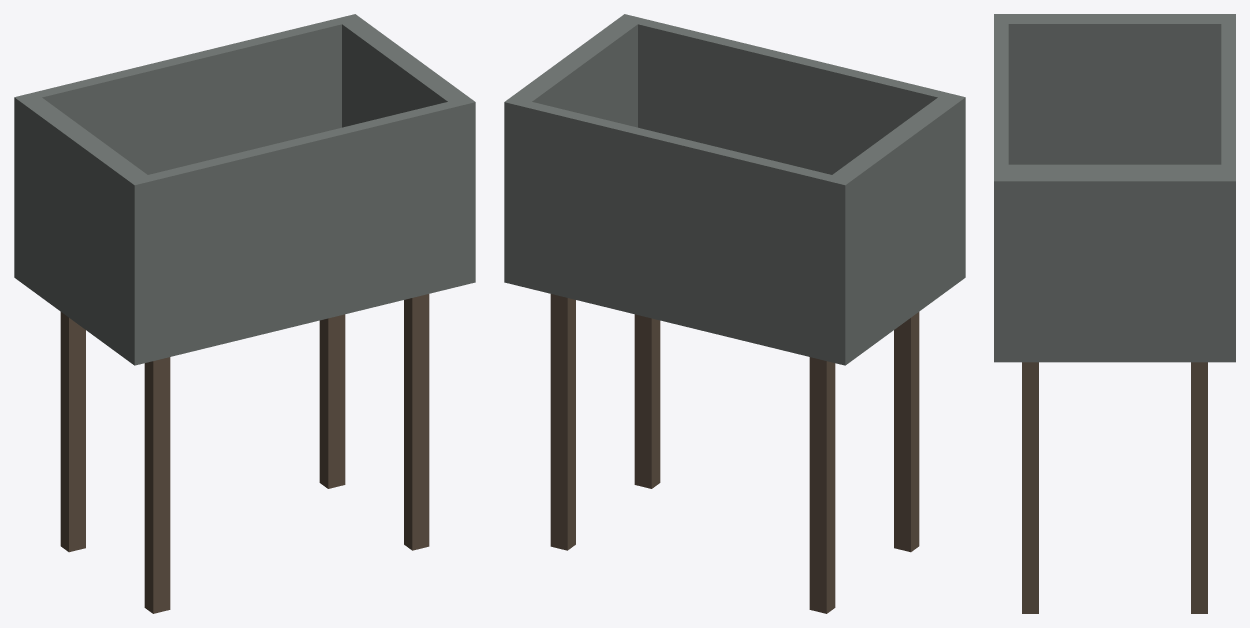
The model's file is P012-blockout-v1.glb.
3 views of the same model, side by side, from view 1: azimuth 30°, elevation 25°; view 2: azimuth 150°, elevation 25°; view 3: azimuth 270°, elevation 25° (orthographic).
Parts seen in each view (by area): view 1: 長邊 (×2), 短邊 (×2), 支腳 (×4), 盆底; view 2: 長邊 (×2), 短邊 (×2), 支腳 (×4), 盆底; view 3: 短邊 (×2), 盆底, 長邊 (×2), 支腳 (×2).
Boxes of the visible parts, bbox=[...] form: 長邊 (×2): bbox=[14, 14, 475, 335]; 短邊 (×2): bbox=[14, 14, 475, 336]; 支腳 (×4): bbox=[60, 294, 429, 613]; 盆底: bbox=[14, 237, 475, 365]; 長邊 (×2): bbox=[504, 14, 965, 336]; 短邊 (×2): bbox=[504, 14, 965, 335]; 支腳 (×4): bbox=[550, 294, 919, 613]; 盆底: bbox=[504, 238, 965, 365]; 短邊 (×2): bbox=[994, 14, 1235, 333]; 盆底: bbox=[994, 164, 1235, 362]; 長邊 (×2): bbox=[994, 14, 1235, 333]; 支腳 (×2): bbox=[1022, 362, 1207, 613].
Size of the model in its own units: 0.9 by 1.13 by 0.55.
